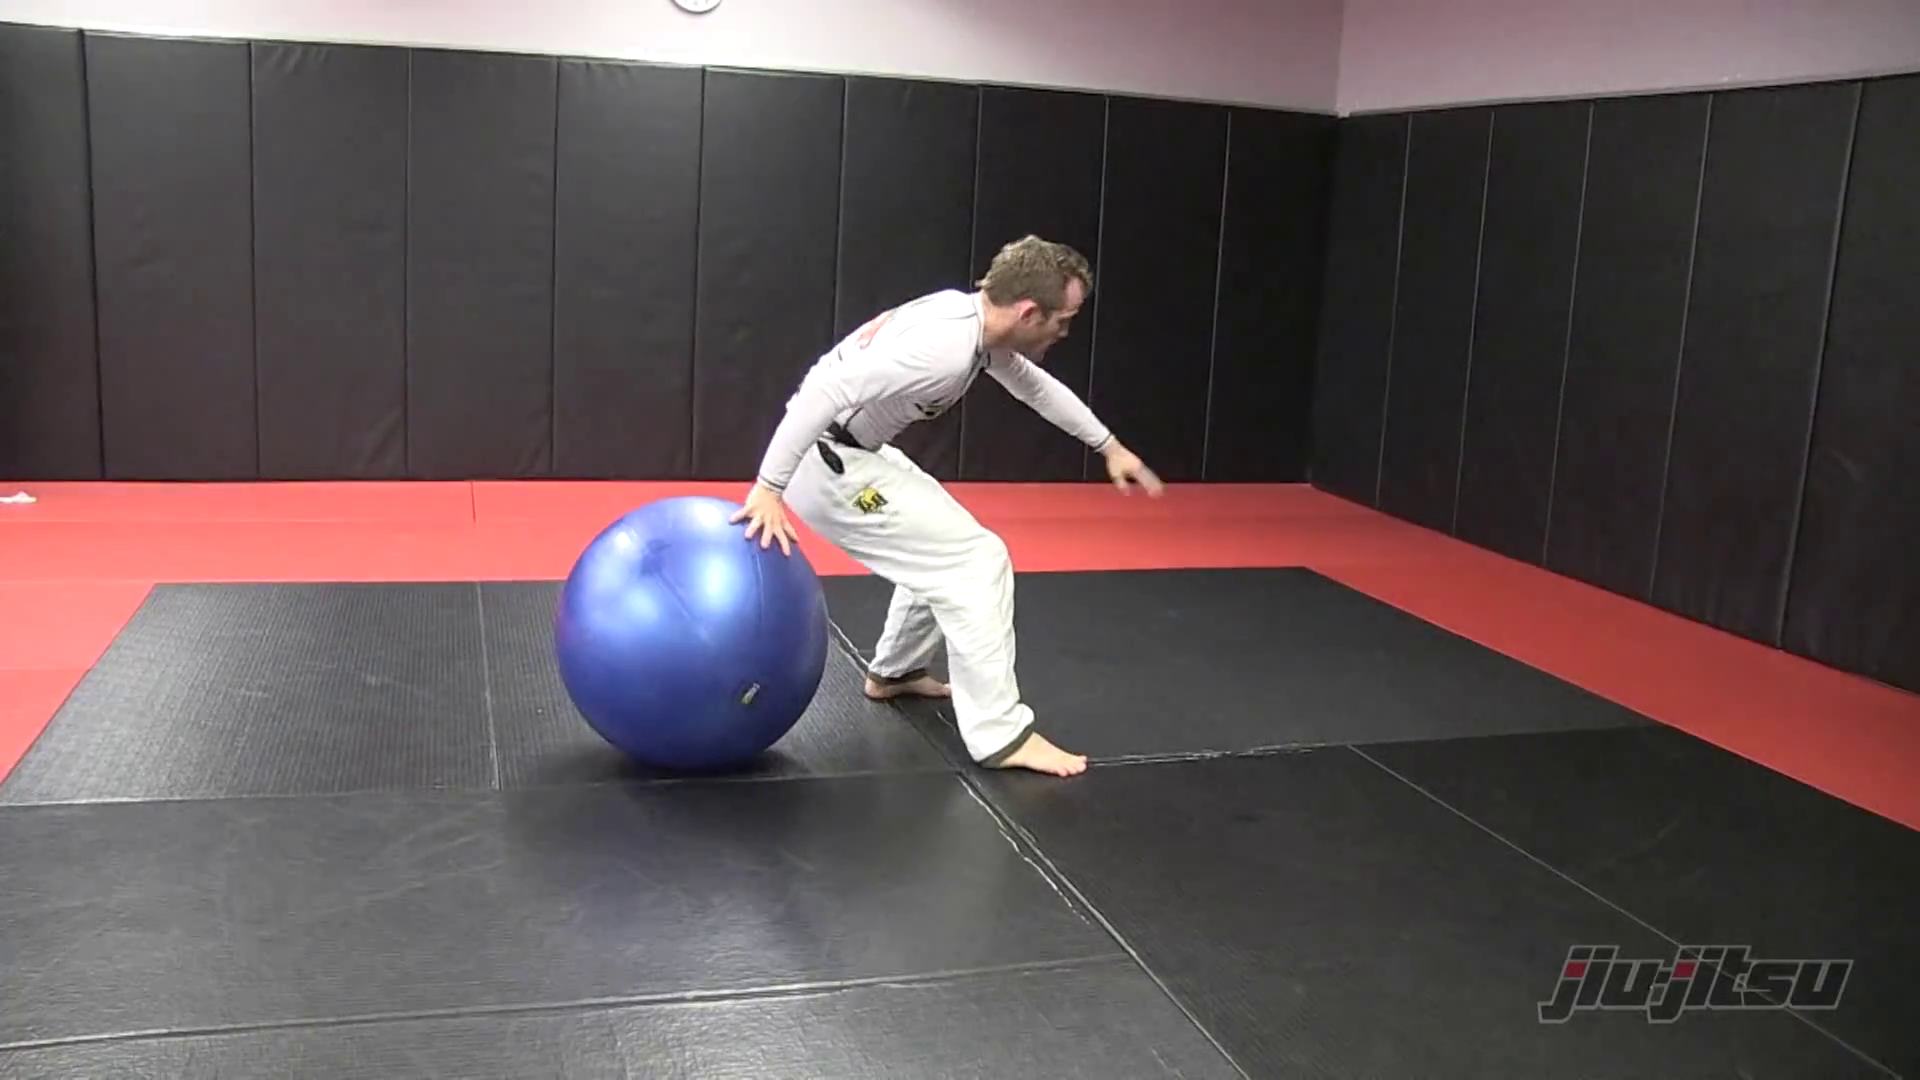yogaball: (543, 481, 847, 789)
